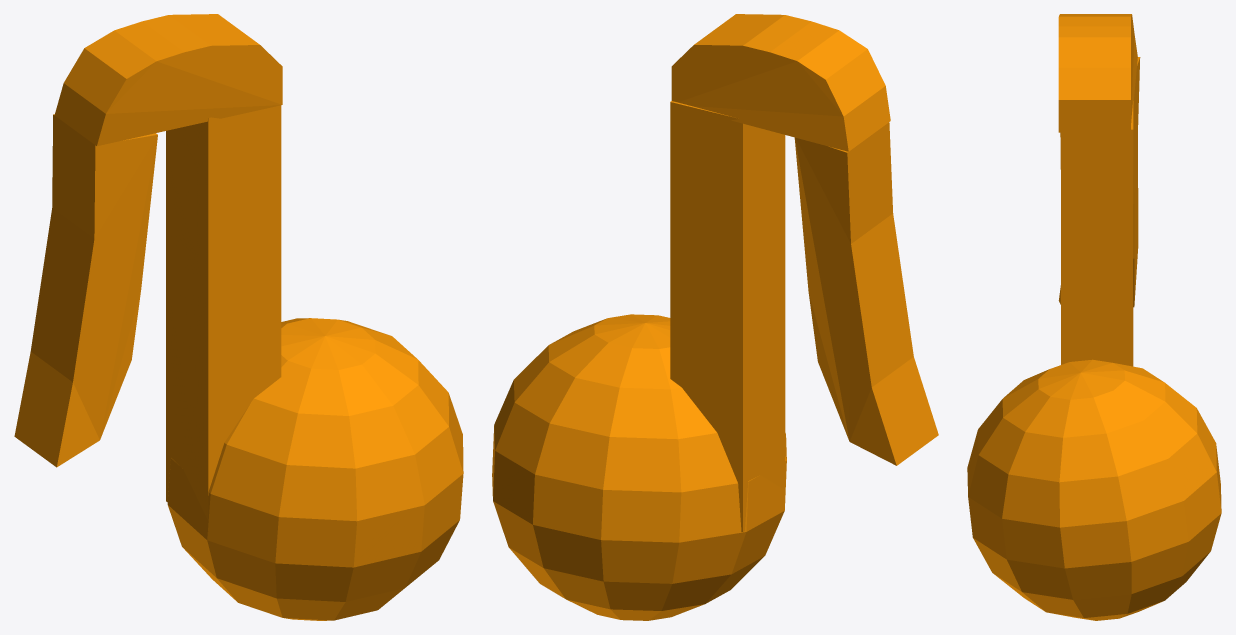
File: orange_note_obj.obj
3 views of the same model, side by side, from view 1: azimuth 30°, elevation 25°; view 2: azimuth 150°, elevation 25°; view 3: azimuth 270°, elevation 25° (orthographic). The views are drawn at different scales.
Parts seen in each view (by area): view 1: group2141155923, group1592007617, group1079009209, group1608023967; view 2: group2141155923, group1592007617, group1079009209, group1608023967; view 3: group2141155923, group1592007617, group1608023967, group1079009209.
Part boxes in pixels (x1=…): group2141155923: x1=167, y1=318, x2=463, y2=620; group1592007617: x1=166, y1=105, x2=281, y2=531; group1079009209: x1=14, y1=114, x2=157, y2=467; group1608023967: x1=54, y1=14, x2=282, y2=146; group2141155923: x1=492, y1=314, x2=786, y2=620; group1592007617: x1=670, y1=101, x2=785, y2=531; group1079009209: x1=794, y1=122, x2=938, y2=465; group1608023967: x1=671, y1=14, x2=890, y2=151; group2141155923: x1=967, y1=359, x2=1221, y2=620; group1592007617: x1=1061, y1=101, x2=1133, y2=366; group1608023967: x1=1058, y1=14, x2=1137, y2=132; group1079009209: x1=1058, y1=57, x2=1140, y2=307.
Size of the model in its own units: 3.45 by 4.92 by 2.18.
